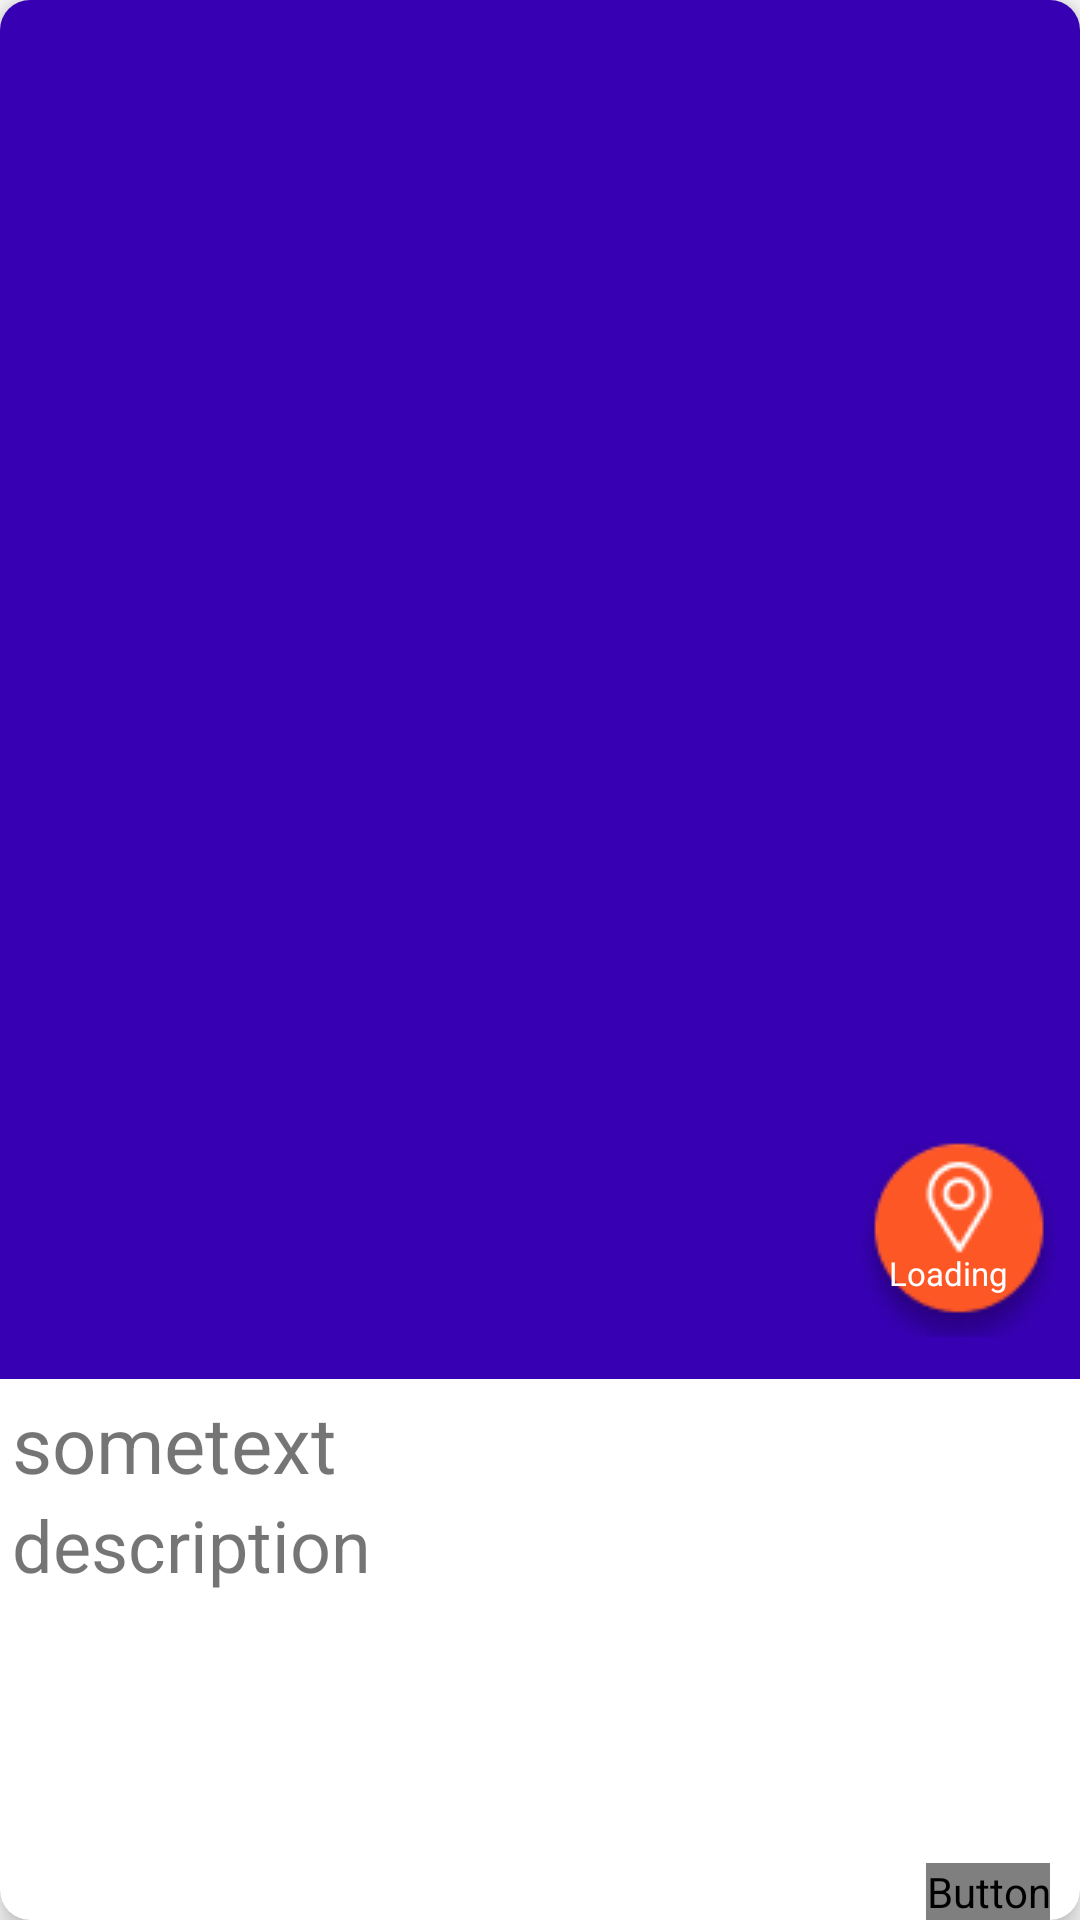

Named icons in this screenshot (1080px x 1920px) and their centers, (x,y):
build route: (959,1238)
